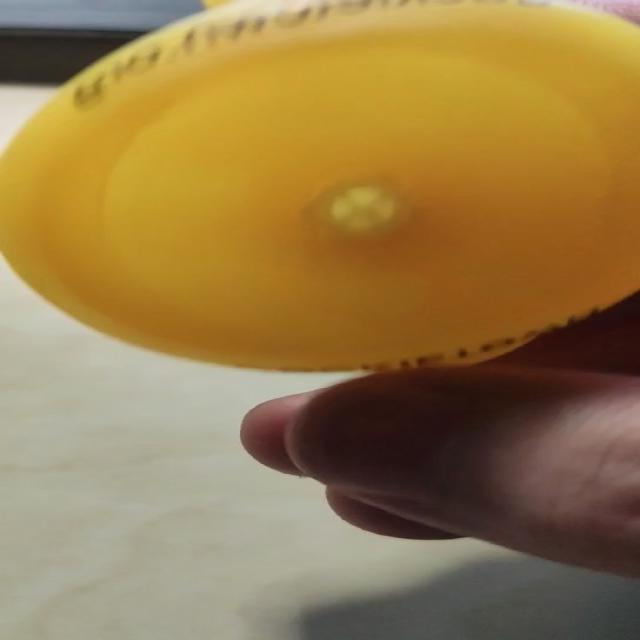rubber-duck: (0, 0, 638, 367)
